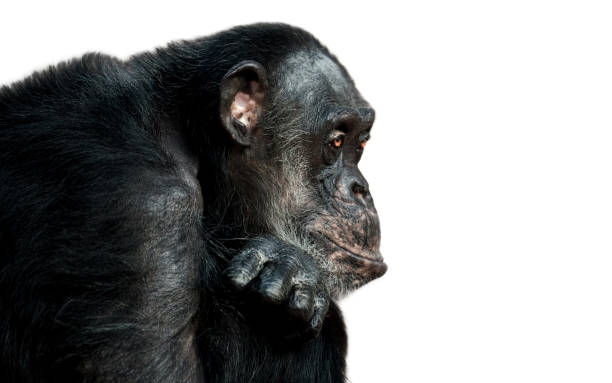chimpanzee: (155, 19, 459, 333)
